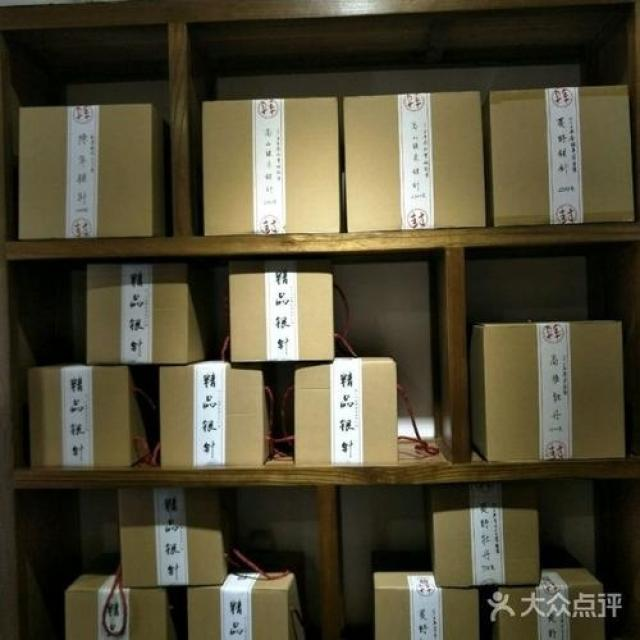box: (471, 320, 626, 463), (482, 85, 634, 224), (19, 102, 173, 236), (202, 98, 343, 235), (344, 95, 484, 231), (88, 260, 230, 365), (495, 511, 606, 637), (29, 367, 161, 468), (374, 518, 478, 639), (295, 354, 400, 466), (159, 363, 275, 463), (431, 482, 540, 587), (186, 551, 318, 637), (118, 486, 226, 587), (229, 259, 334, 358), (65, 570, 167, 639)
